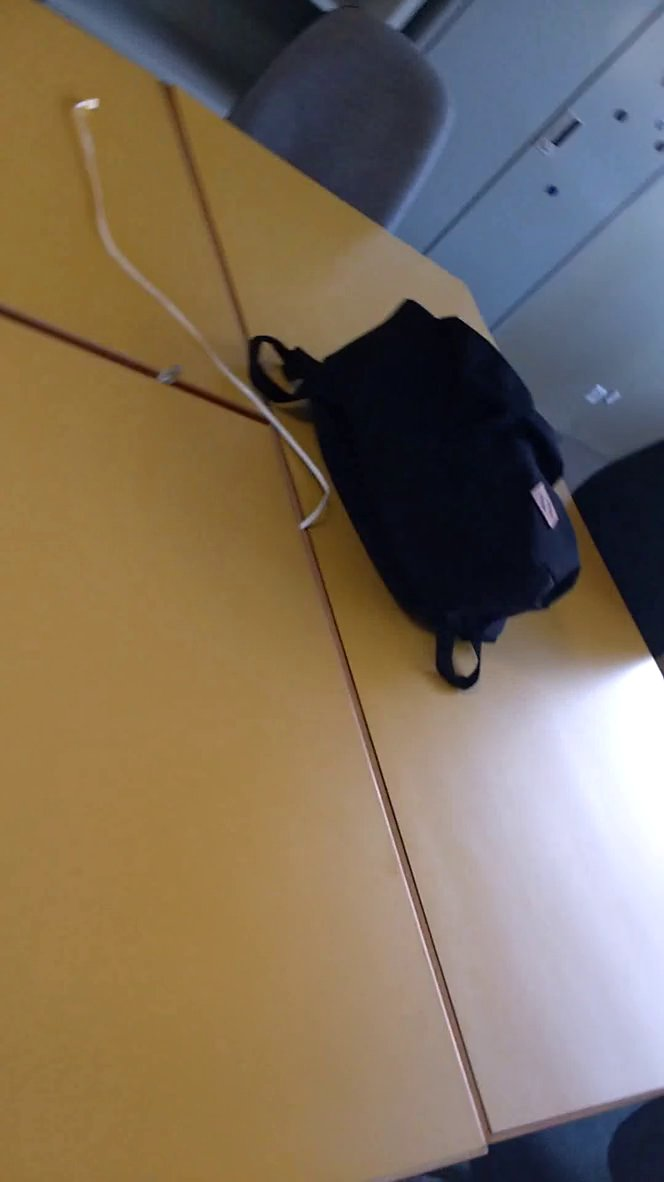bag: (236, 290, 590, 701)
chair: (205, 1, 462, 256)
